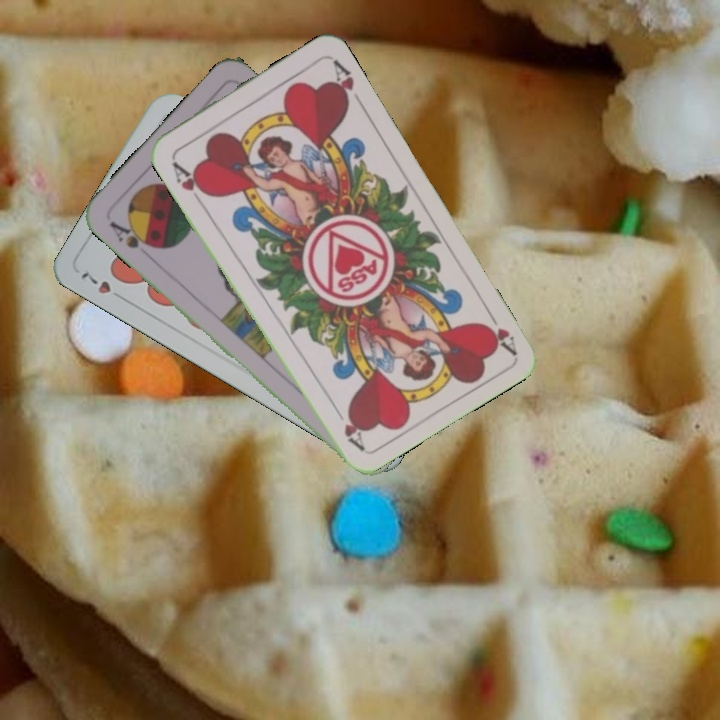H7: (76, 268, 129, 304)
HA: (168, 154, 212, 208), (477, 302, 519, 356)
SA: (105, 217, 159, 252)
